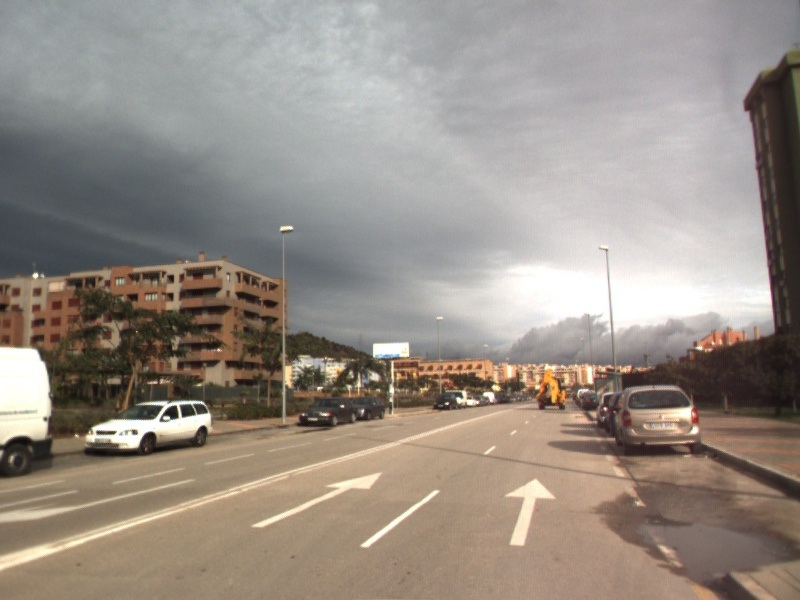STRAIGHT: (248, 470, 385, 529), (502, 476, 558, 547)
